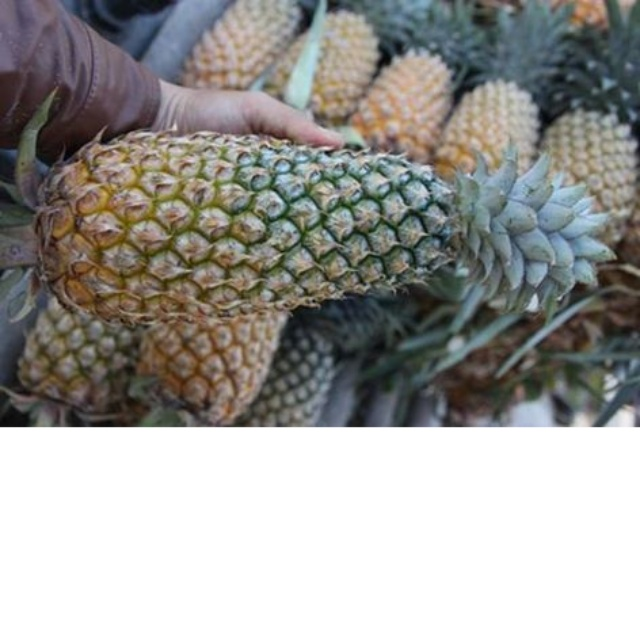thom: (28, 111, 487, 336)
